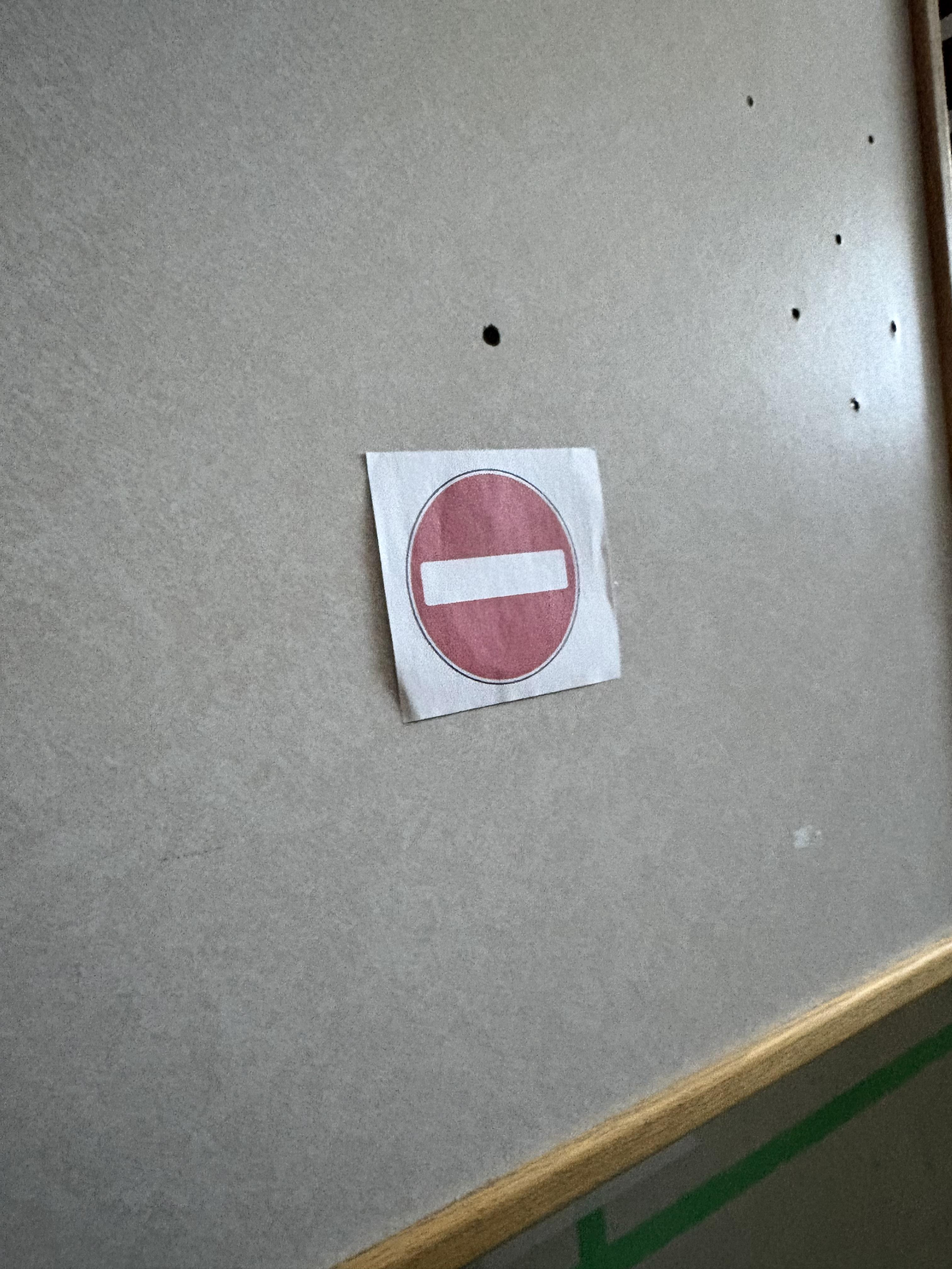No Entry: (363, 448, 621, 731)
